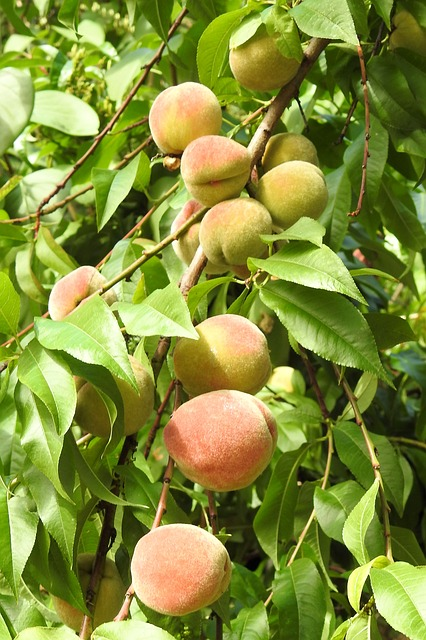peach: (159, 388, 279, 492), (130, 523, 229, 617), (170, 315, 273, 394), (147, 80, 223, 156), (182, 133, 254, 205), (199, 199, 273, 265), (253, 162, 327, 224), (47, 266, 118, 321)
